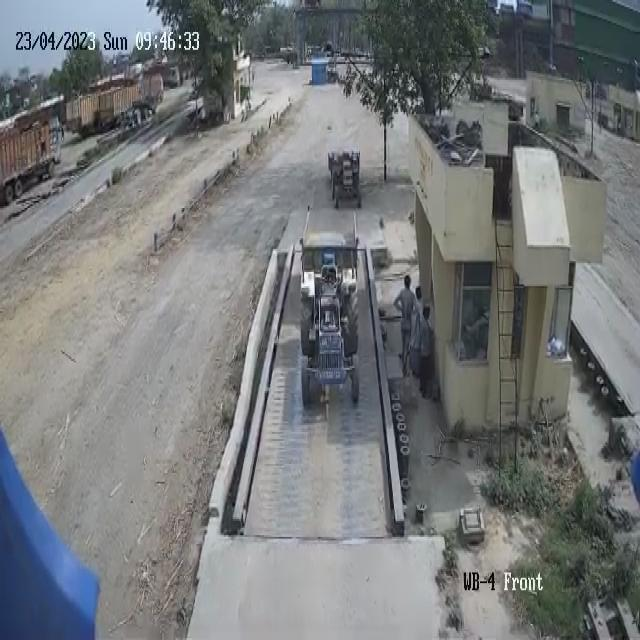Tratores - v5 YOLO V8L 2024-11-13: (300, 263, 361, 413), (326, 142, 366, 216)
